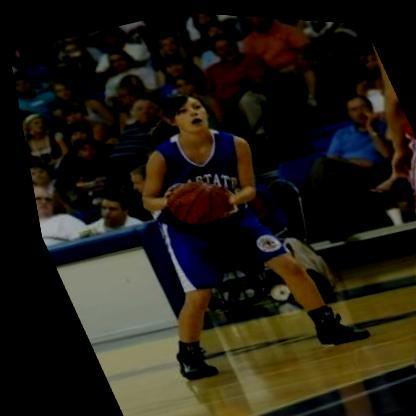basketball: (149, 169, 236, 234)
